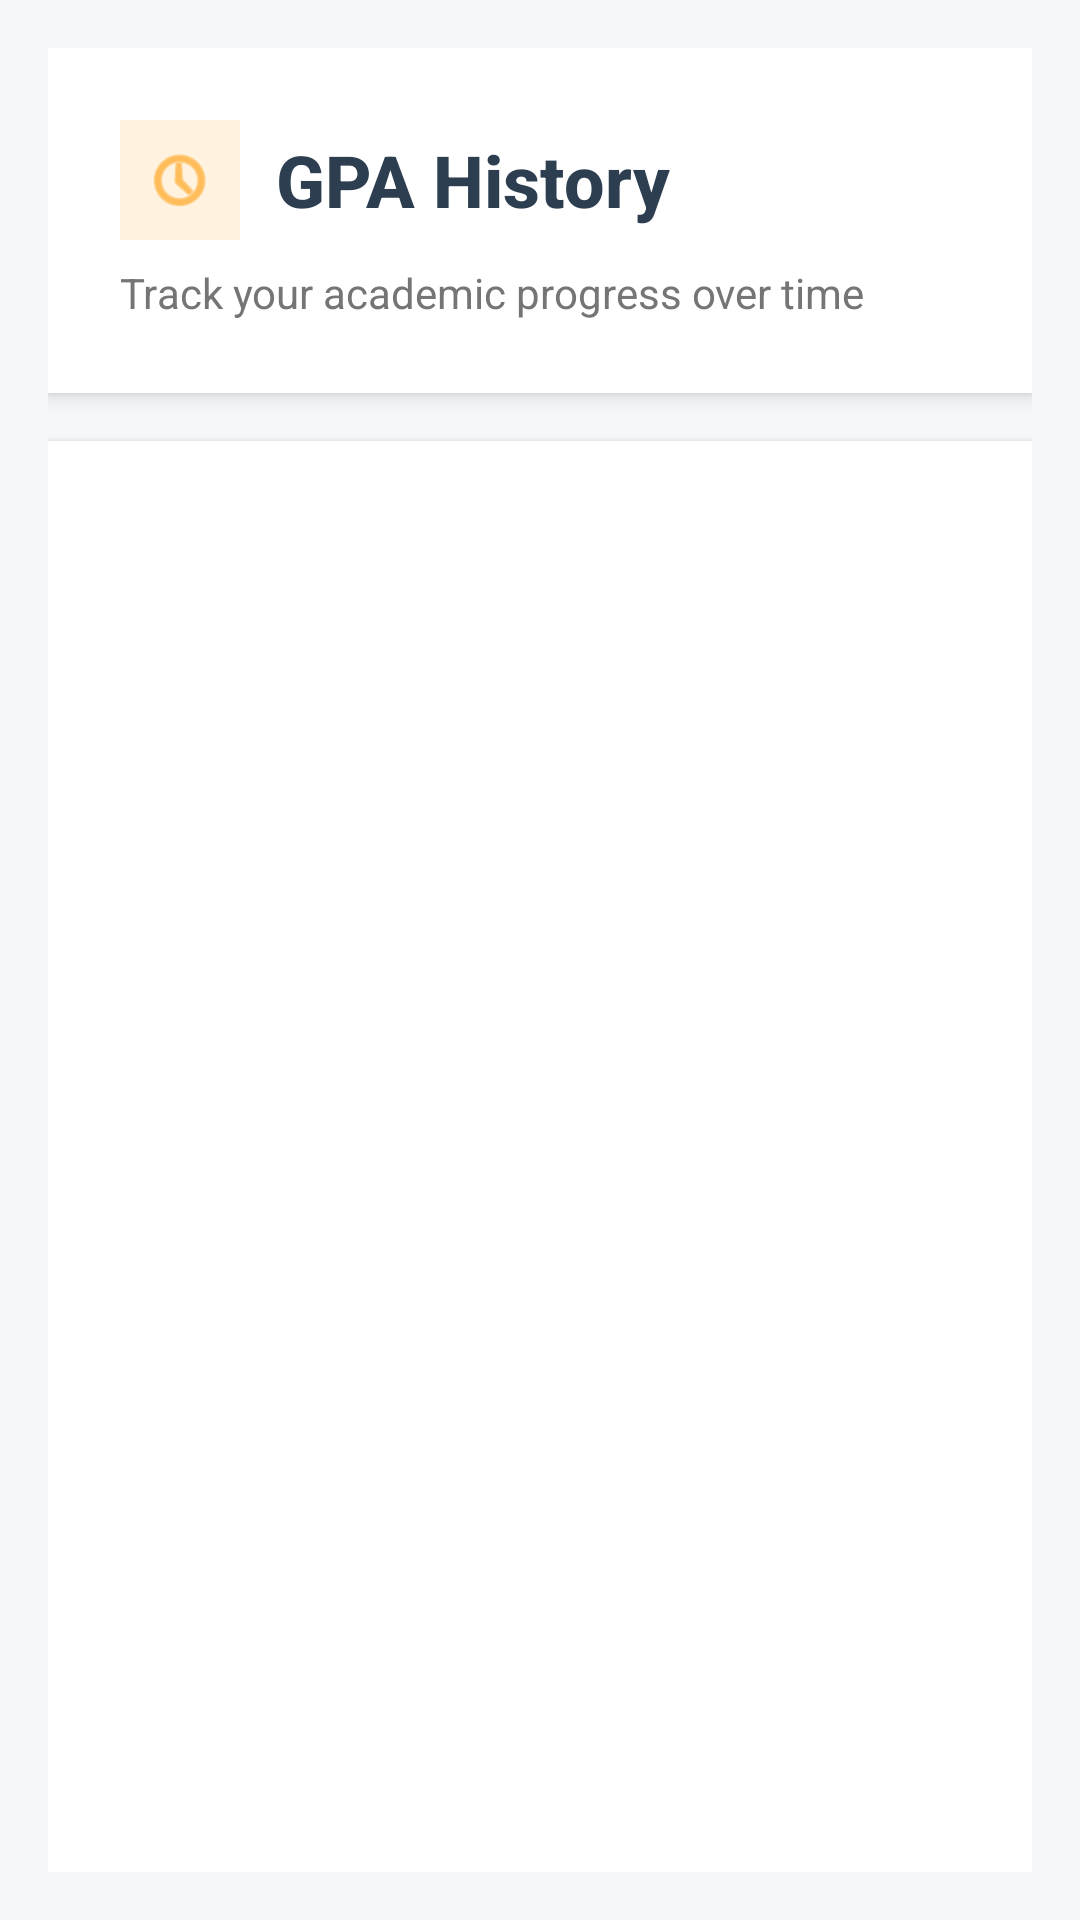

Icon bounding boxes for this 1080w x 1920h phone screenshot, format detection(x1, y1, x2, y2):
recent history: detection(154, 154, 206, 206)
